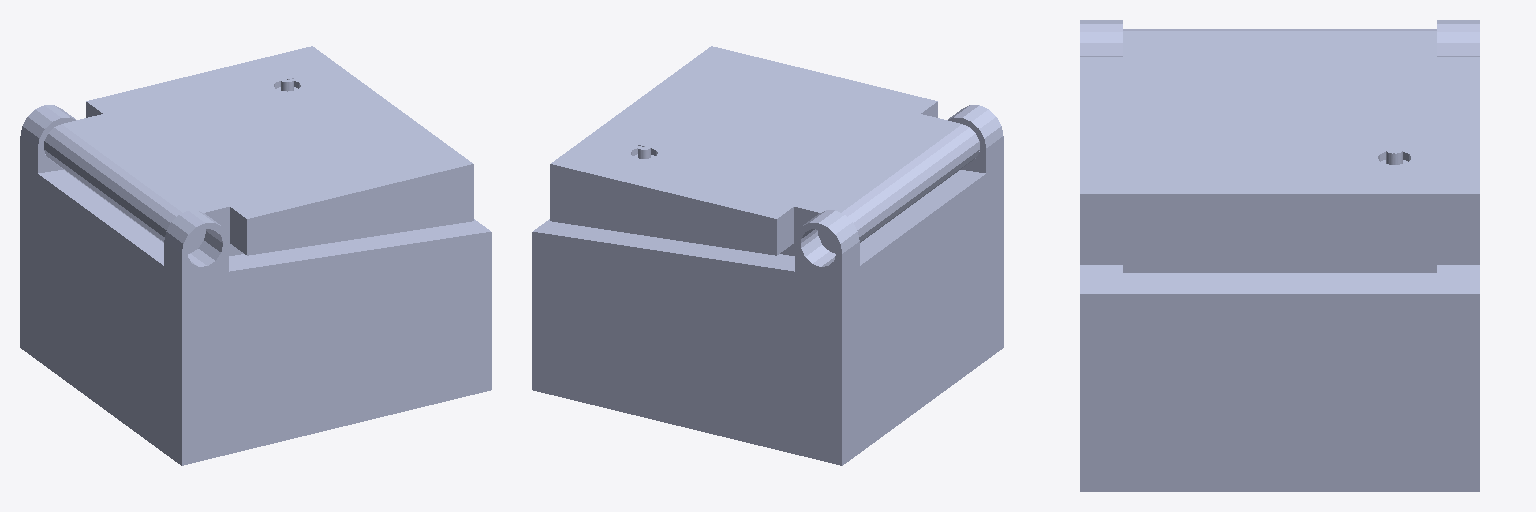
URDF robot description (centrifuge):
<?xml version="1.0" encoding="utf-8"?>
<!-- This URDF was automatically created by SolidWorks to URDF Exporter! Originally created by [author] ([email redacted]) 
     Commit Version: 1.6.0-4-g7f85cfe  Build Version: 1.6.7995.38578
     For more information, please see http://wiki.ros.org/sw_urdf_exporter -->
<robot
  name="centrifuge">
  <link
    name="base_link">
    <inertial>
      <origin
        xyz="-0.010723 9.3157E-17 0.11397"
        rpy="0 0 0" />
      <mass
        value="32.665" />
      <inertia
        ixx="1.1034"
        ixy="-6.3205E-17"
        ixz="0.060824"
        iyy="1.2701"
        iyz="-5.3485E-17"
        izz="1.8647" />
    </inertial>
    <visual>
      <origin
        xyz="0 0 0"
        rpy="0 0 0" />
      <geometry>
        <mesh
          filename="meshes/base_link.stl" />
      </geometry>
      <material
        name="">
        <color
          rgba="0.79216 0.81961 0.92941 1" />
      </material>
    </visual>
    <collision>
      <origin
        xyz="0 0 0"
        rpy="0 0 0" />
      <geometry>
        <mesh
          filename="meshes/base_link.stl" />
      </geometry>
    </collision>
  </link>
  <joint
    name="body_cover_joint"
    type="revolute">
    <origin
      xyz="-0.22 -0.184 0.34"
      rpy="0 0 0" />
    <parent
      link="base_link" />
    <child
      link="cover_link" />
    <axis
      xyz="0 -1 0" />
    <limit
      lower="0"
      upper="3.14"
      effort="100"
      velocity="10" />
  </joint>
  <link
    name="cover_link">
    <inertial>
      <origin
        xyz="0.24141 0.18386 -0.0071111"
        rpy="0 0 0" />
      <mass
        value="15.374" />
      <inertia
        ixx="0.27439"
        ixy="0.00022856"
        ixz="0.011065"
        iyy="0.27698"
        iyz="6.338E-05"
        izz="0.53615" />
    </inertial>
    <visual>
      <origin
        xyz="0.22 0.184 -0.34"
        rpy="0 0 0" />
      <geometry>
        <mesh
          filename="meshes/cover_link.stl" />
      </geometry>
      <material
        name="">
        <color
          rgba="0.79216 0.81961 0.92941 1" />
      </material>
    </visual>
    <collision>
      <origin
        xyz="0.22 0.184 -0.34"
        rpy="0 0 0" />
      <geometry>
        <mesh
          filename="meshes/cover_link.stl" />
      </geometry>
    </collision>
  </link>

  <joint
    name="cover_button_joint"
    type="prismatic">
    <origin
      xyz="0.35 0.318 0.04"
      rpy="0 0 0" />
    <parent
      link="cover_link" />
    <child
      link="button_link" />
    <axis
      xyz="0 0 -1" />
    <limit
      lower="-1"
      upper="1"
      effort="10"
      velocity="1" />
  </joint>
  <link
    name="button_link">
    <inertial>
      <origin
        xyz="1.5654E-05 -3.1411E-06 -0.0099669"
        rpy="0 0 0" />
      <mass
        value="0.0063031" />
      <inertia
        ixx="3.6873E-07"
        ixy="9.769E-11"
        ixz="-1.0327E-09"
        iyy="3.6936E-07"
        iyz="2.0723E-10"
        izz="3.1484E-07" />
    </inertial>
    <visual>
      <origin
        xyz="-0.13 -0.134 -0.38"
        rpy="0 0 0" />
      <geometry>
        <mesh
          filename="meshes/button_link.stl" />
      </geometry>
      <material
        name="">
        <color
          rgba="0.79216 0.81961 0.92941 1" />
      </material>
    </visual>
    <collision>
      <origin
        xyz="-0.13 -0.134 -0.38"
        rpy="0 0 0" />
      <geometry>
        <mesh
          filename="meshes/button_link.stl" />
      </geometry>
    </collision>
  </link>

</robot>

--- What the picture shows (computed from the rendered views, not written in the file) ---
Views: 3 orthographic renders of the robot side by side, from view 1: azimuth 30°, elevation 25°; view 2: azimuth 150°, elevation 25°; view 3: azimuth 270°, elevation 25°.
Model centrifuge with 3 links and 2 joints (1 revolute, 1 prismatic), rooted at base_link, posed every joint at zero.
Links seen in each view (by area): view 1: base_link, cover_link; view 2: base_link, cover_link; view 3: base_link, cover_link.
Boxes of the visible links, x1,y1,x2,y2 form: base_link: [20, 105, 491, 465]; cover_link: [44, 46, 473, 255]; base_link: [532, 105, 1003, 465]; cover_link: [550, 46, 979, 255]; base_link: [1080, 20, 1479, 491]; cover_link: [1080, 29, 1479, 264].
Bounding box of the posed robot: 0.52 × 0.468 × 0.381 m (x, y, z).
Meshes: 3 distinct files referenced, 3 mesh visuals loaded (3 binary STL).
